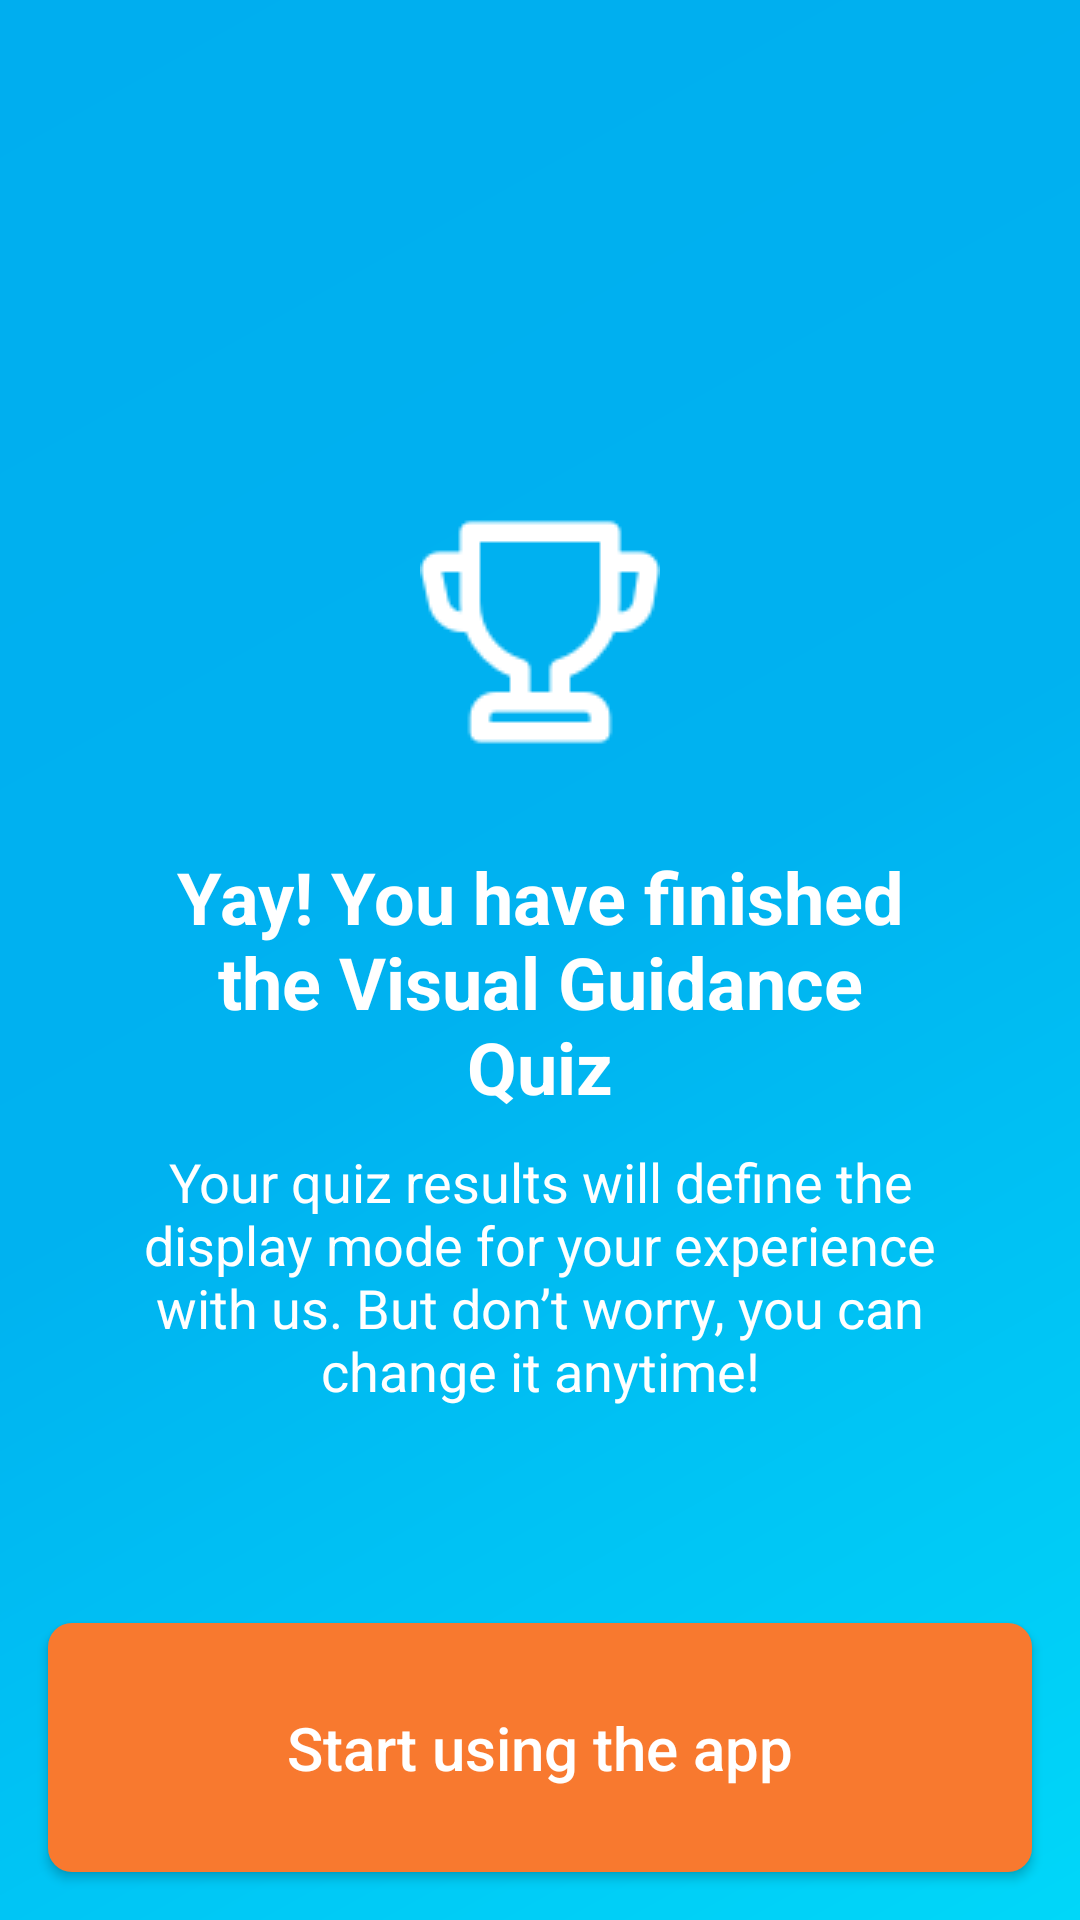

Named icons in this screenshot (1080px x 1920px) and their bounding boxes, (x1, y1, x2, y2):
trophy: (420, 520, 660, 744)
